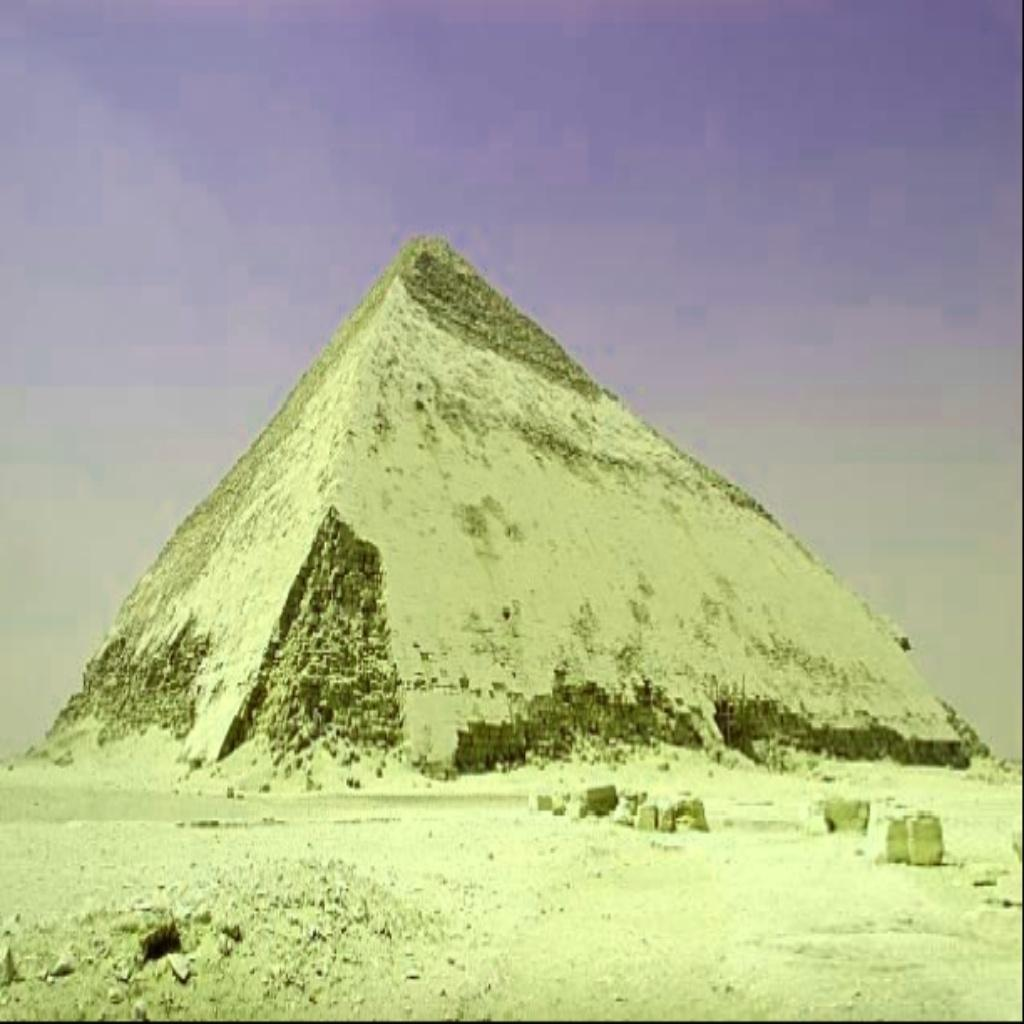Bent Pyramid of King Sneferu: (32, 228, 990, 780)
